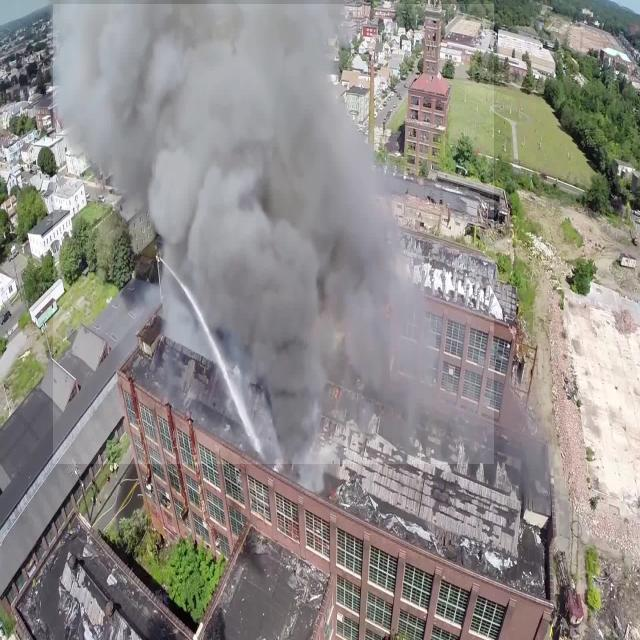Smoke: (53, 4, 494, 464)
